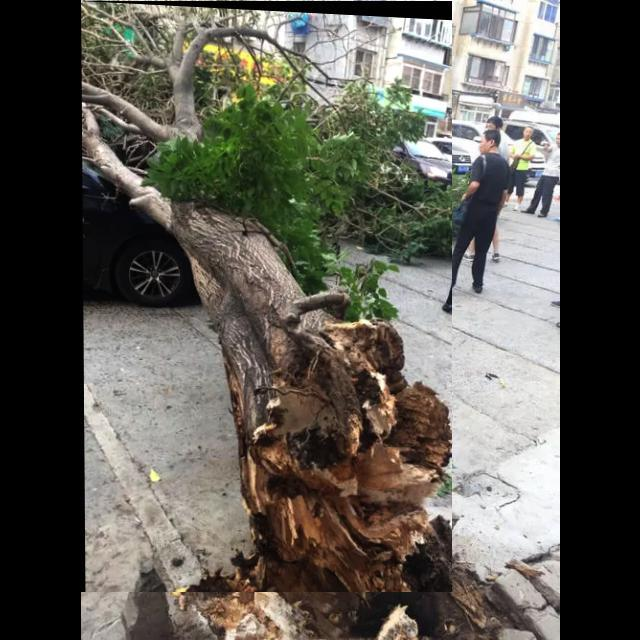fallen_tree: (81, 1, 453, 593)
